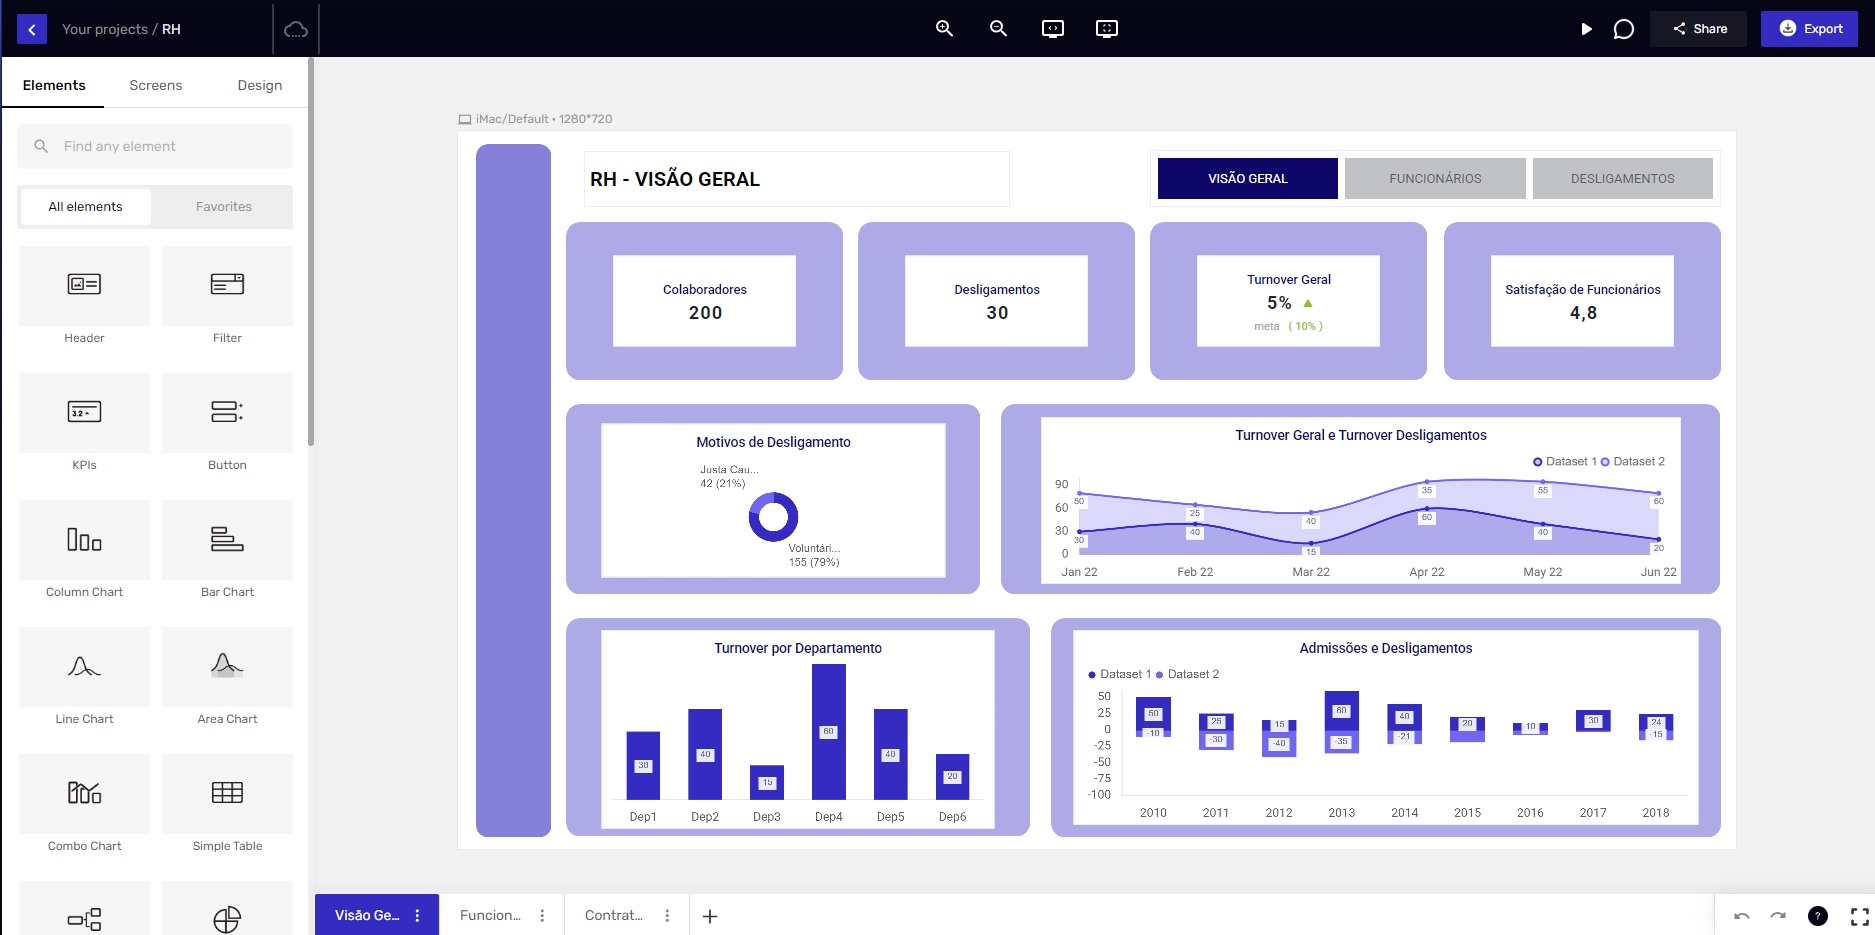

This screenshot's page, from the dashboard's own definition file:
{"tool":"powerbi","page":{"name":"Visão Geral","canvas":[1280,720],"ordinal":0},"visuals":[{"type":"card","fields":{"Values":["Tabela de Medidas.funcionários ativos"]},"box":[199.3,154.8,118,64.8],"z":0},{"type":"card","fields":{"Values":["Tabela de Medidas.Desligamentos"]},"box":[493.4,155.8,100.6,63.9],"z":1000},{"type":"kpi","fields":{"Indicator":["Tabela de Medidas.TurnoverGeral"],"Goal":["Tabela de Medidas.MetaTurnoverGeral"],"TrendLine":["Tb_Calendario.Ano"]},"box":[699.5,155.8,266.1,112.2],"z":2000},{"type":"hundredPercentStackedBarChart","fields":{"Category":["dDesligamentos.Department"],"Series":["dDesligamentos.EmploymentStatus"],"Y":["CountNonNull(dDesligamentos.TermReason)"]},"box":[114.2,322.2,406.3,169.3],"z":3000},{"type":"areaChart","fields":{"Y":["Tb_Medidas.TurnoverGeral","Tb_Medidas.TurnoverDesligamentos"],"Category":["Tb_Calendario.Ano"]},"box":[567.9,322.2,693.7,169.3],"z":4000},{"type":"columnChart","fields":{"Y":["Medidas.Admissões","Medidas.Desligamentos Valor Negativo"],"Category":["Tb_Calendario.Ano"]},"box":[652.1,533.1,609.5,172.2],"z":5000},{"type":"columnChart","fields":{"Category":["dContratacoes.Department"],"Y":["Medidas.turnoverGeral"]},"box":[104.5,524.4,525.4,180.9],"z":6000},{"type":"ratingsvisual001","fields":{"measure":["Medidas.satisfacaoFuncionarios"]},"box":[1008.1,155.8,253.5,112.2],"z":7000},{"type":"image","box":[9.7,336.7,69.7,85.1],"z":8000},{"type":"image","box":[16.4,479.9,62.9,66.8],"z":9000}]}

Visuals, with their boxes on the page's 1280x720 design canvas (x1, y1, x2, y2). These are canvas units, not pixel positions in the 1875x935 screenshot, which may show the page scaled, cropped or inside an application window:
card - Tabela de Medidas.funcionários ativos: (left=199, top=155, right=317, bottom=220)
card - Tabela de Medidas.Desligamentos: (left=493, top=156, right=594, bottom=220)
kpi - Tabela de Medidas.TurnoverGeral x Tabela de Medidas.MetaTurnoverGeral: (left=700, top=156, right=966, bottom=268)
hundredPercentStackedBarChart - dDesligamentos.Department x dDesligamentos.EmploymentStatus: (left=114, top=322, right=520, bottom=492)
areaChart - Tb_Medidas.TurnoverGeral x Tb_Medidas.TurnoverDesligamentos: (left=568, top=322, right=1262, bottom=492)
columnChart - Medidas.Admissões x Medidas.Desligamentos Valor Negativo: (left=652, top=533, right=1262, bottom=705)
columnChart - dContratacoes.Department x Medidas.turnoverGeral: (left=104, top=524, right=630, bottom=705)
ratingsvisual001 - Medidas.satisfacaoFuncionarios: (left=1008, top=156, right=1262, bottom=268)
image: (left=10, top=337, right=79, bottom=422)
image: (left=16, top=480, right=79, bottom=547)
